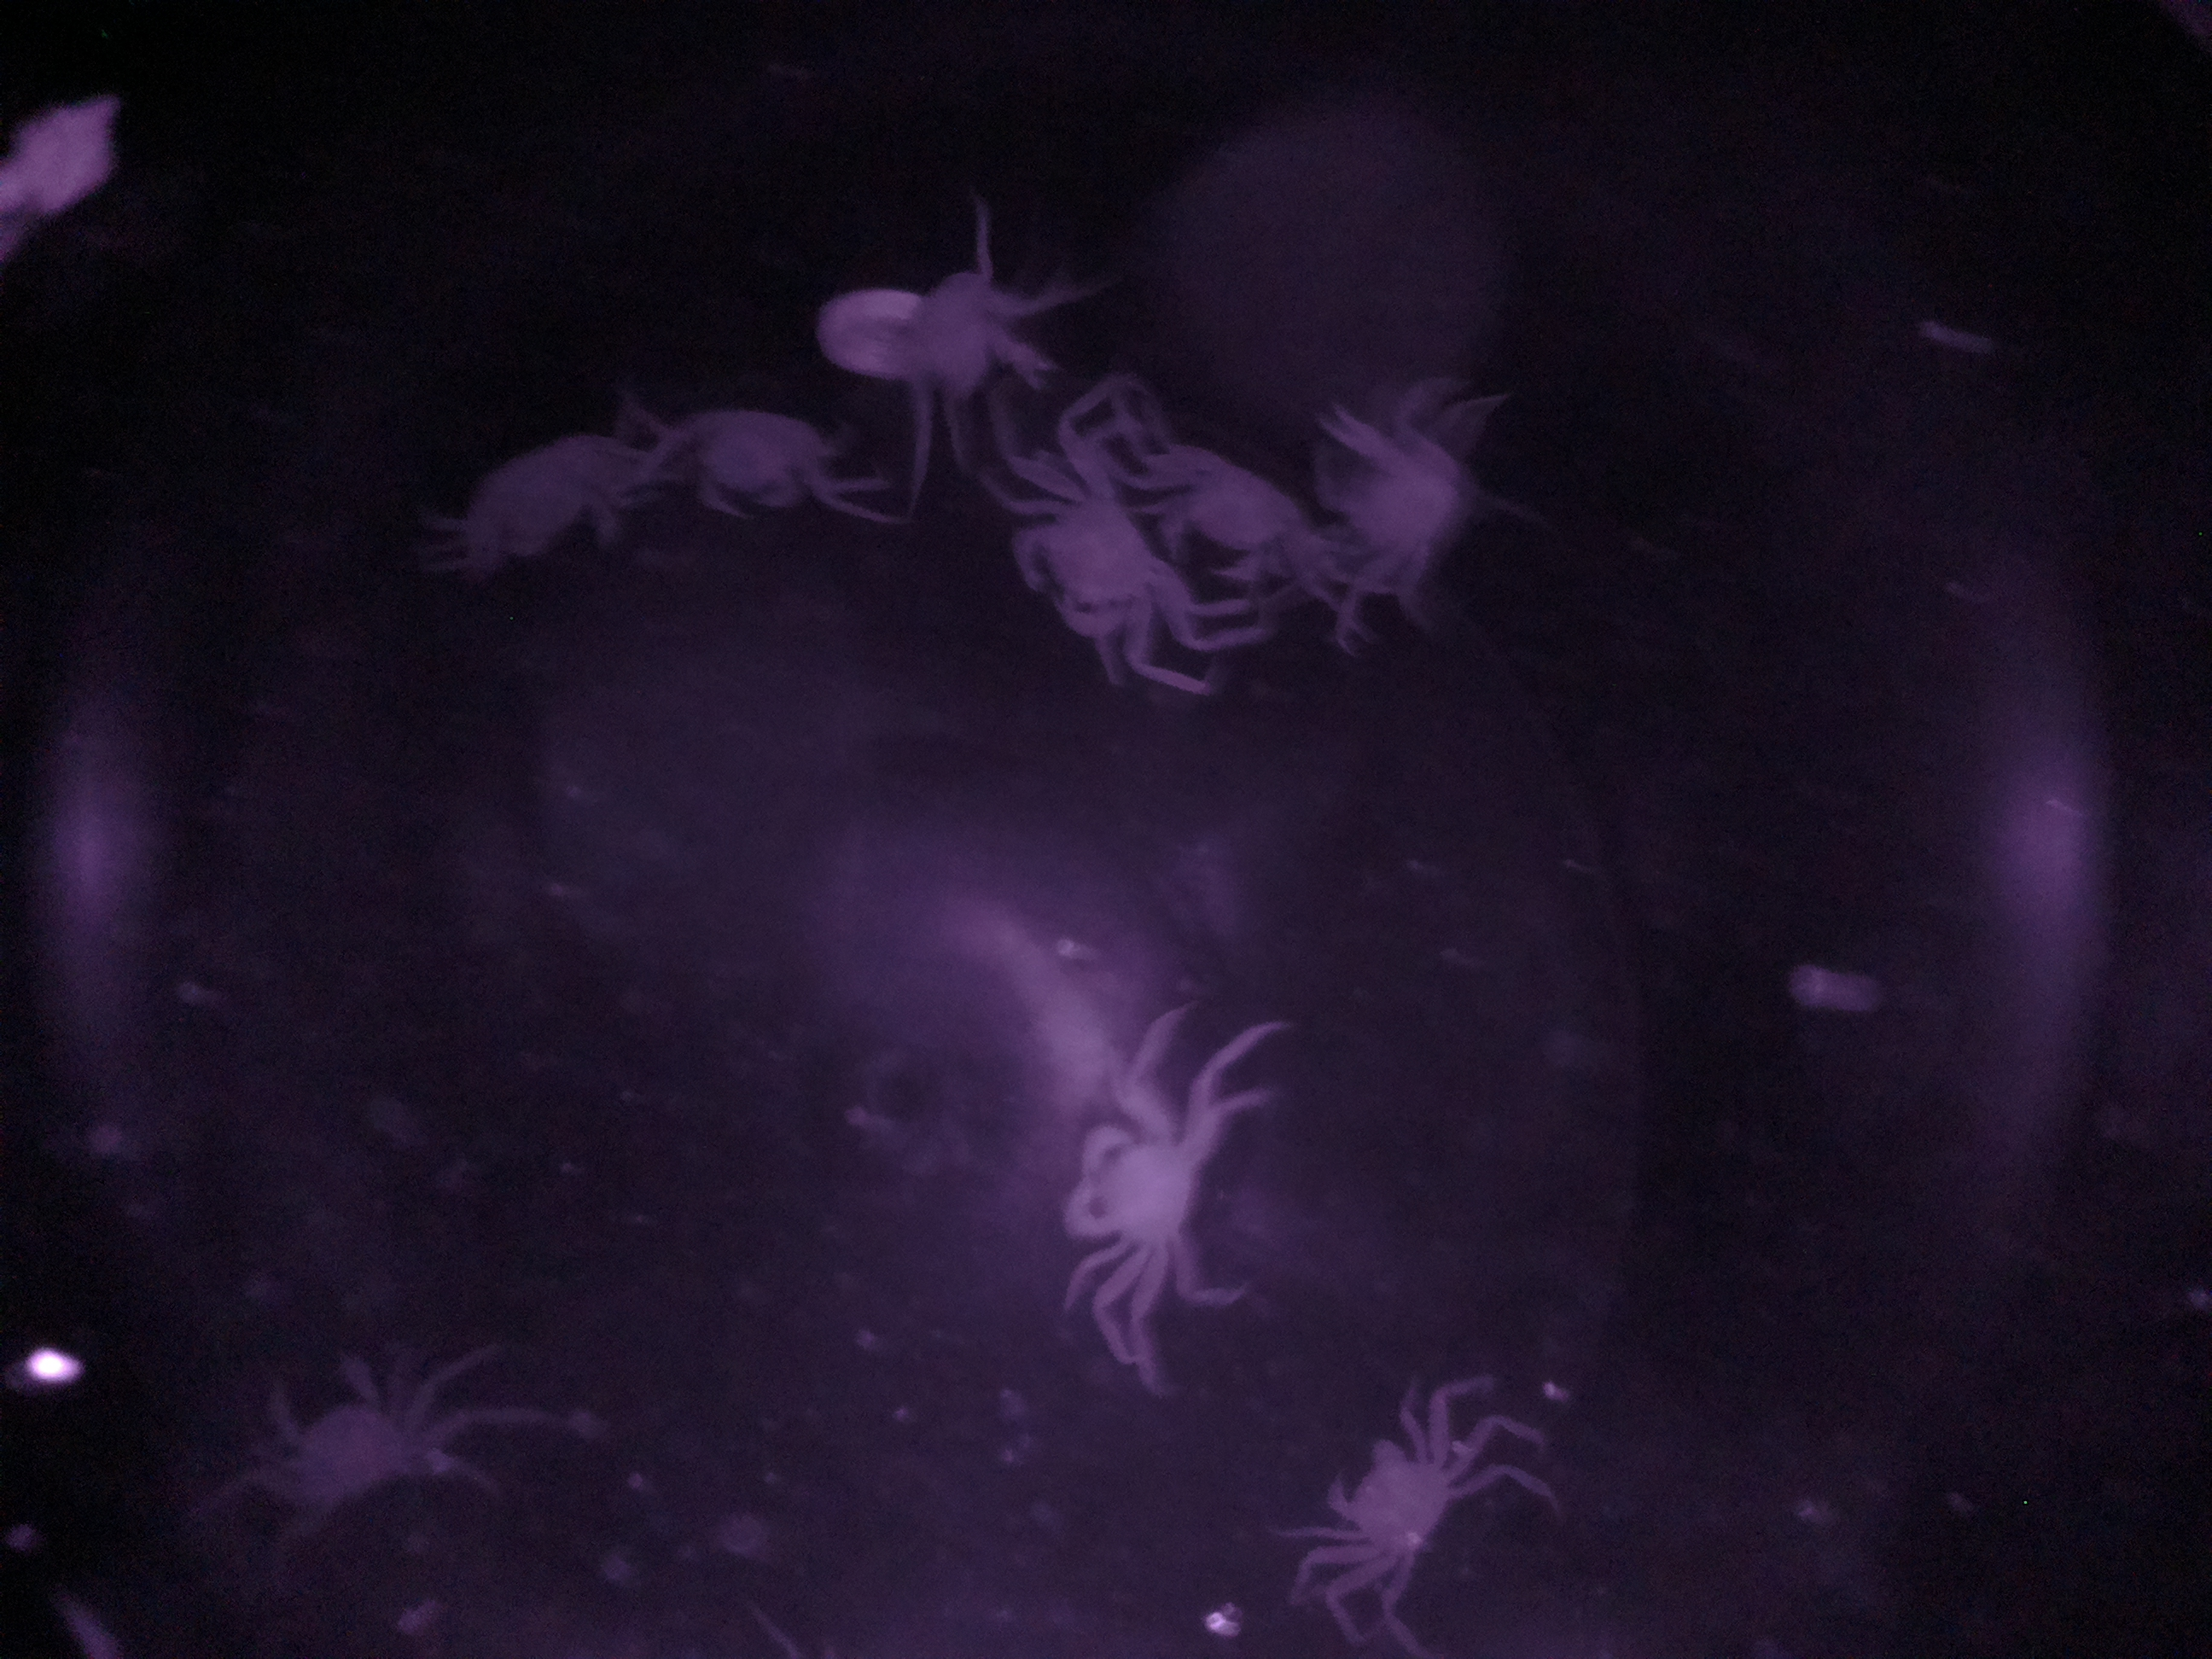Crab: (1301, 1399, 1505, 1622)
